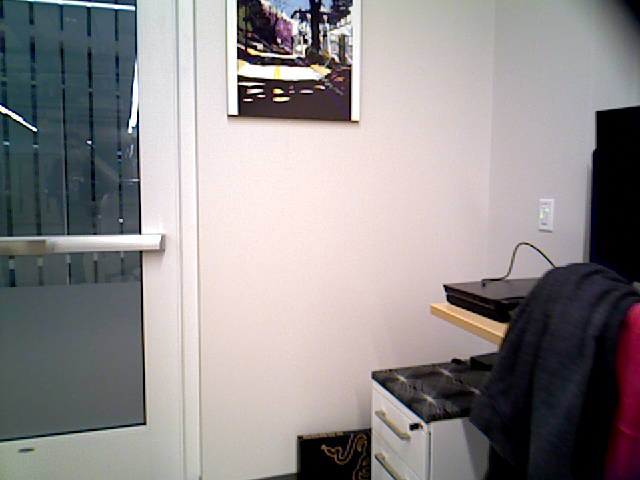painting3: (227, 1, 360, 124)
